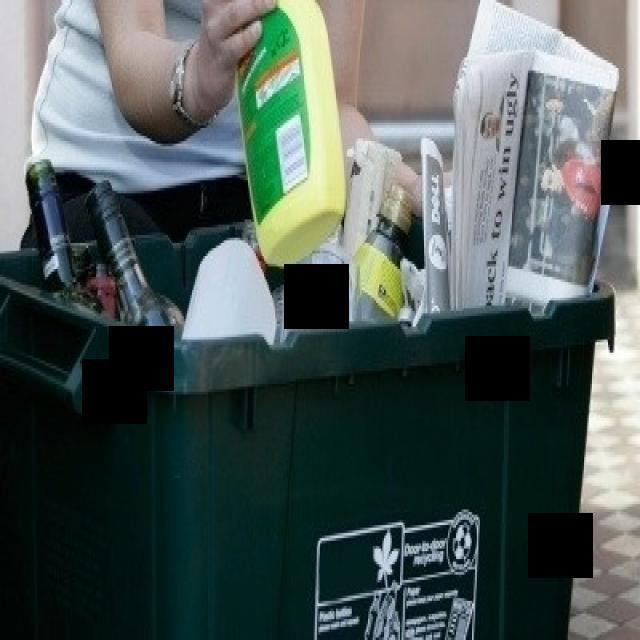Garbage: (29, 2, 618, 342), (460, 539, 470, 554)
Glass_bottle: (88, 185, 182, 338), (355, 186, 411, 319), (26, 161, 74, 289)
Plastic_Container: (238, 0, 345, 266), (182, 239, 274, 344), (282, 243, 352, 338)
